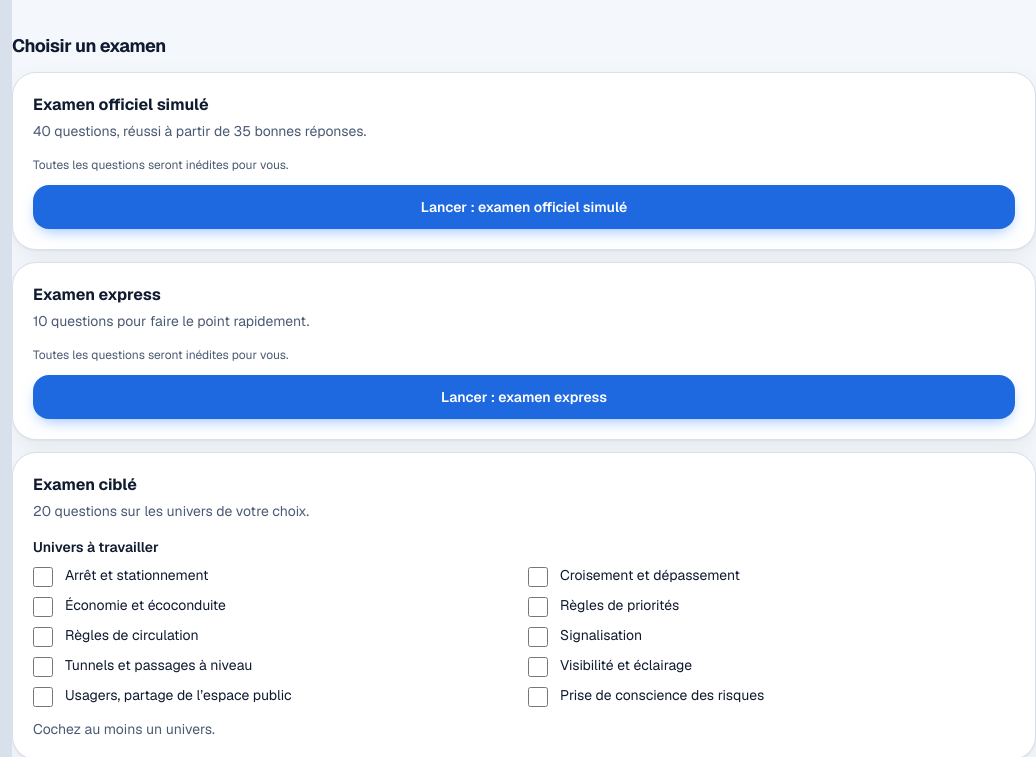
examens : déroulé › annonce un refus du serveur au lancement
Click the button "Lancer : examen express".
click(524, 397)  # box [33,375,1015,419]
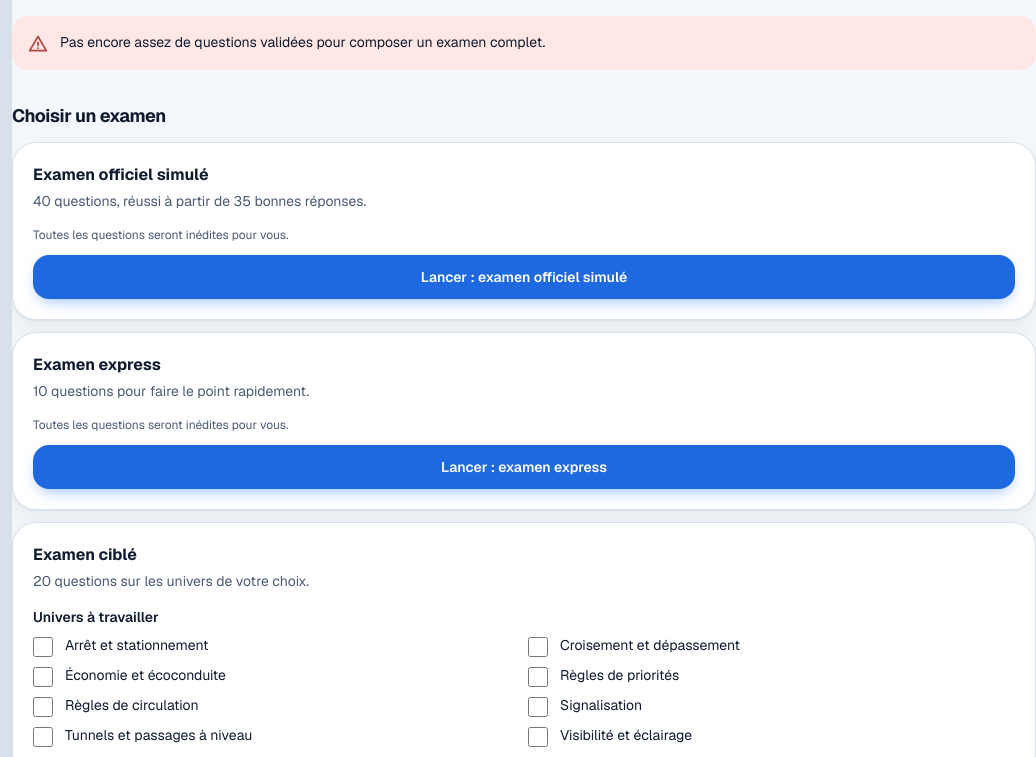
Now the text "Pas encore assez de questions validées pour composer un examen complet." is shown, box [60,32,545,52]
